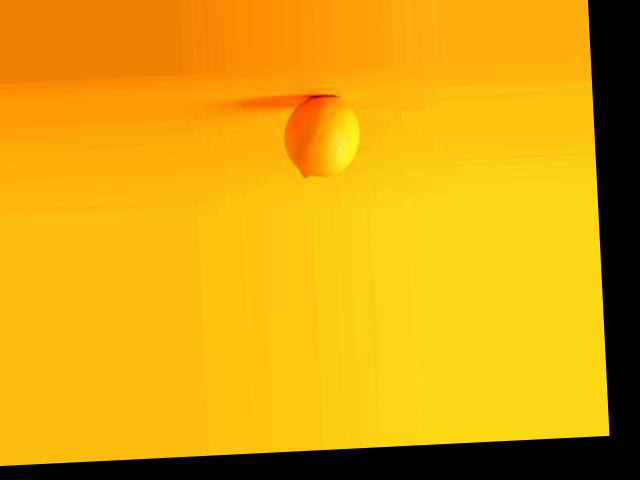lemon: (270, 87, 376, 189)
